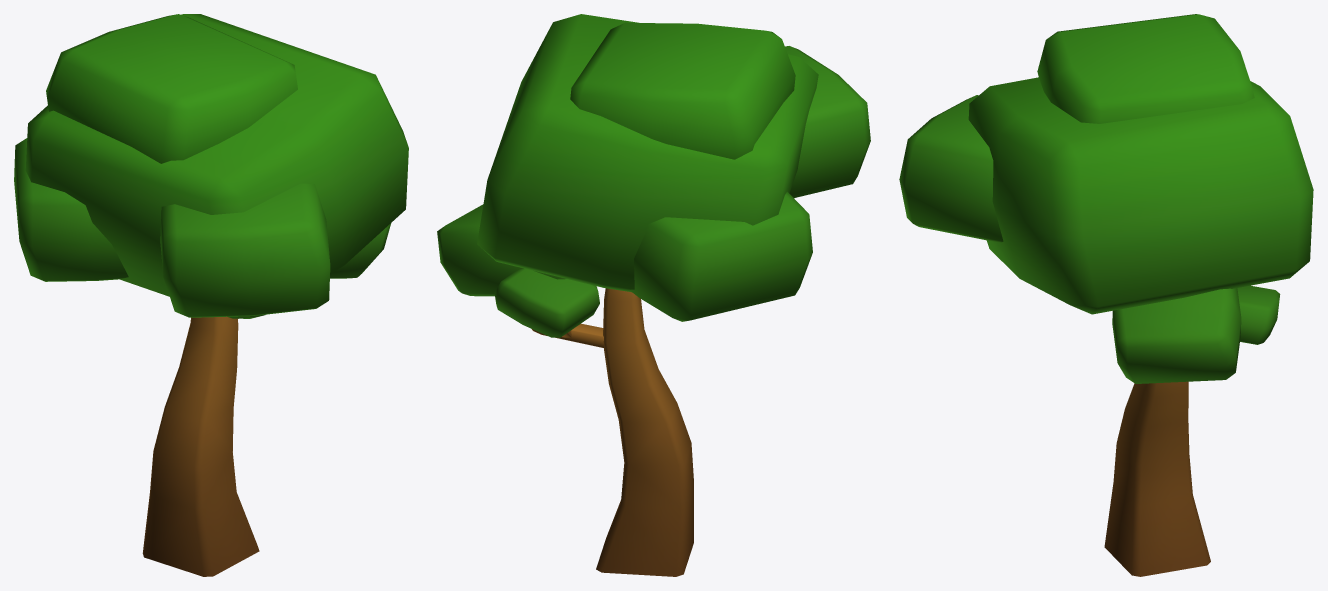
File: Tree_C_6_.glb
3 renders of one model, left to right at view 1: azimuth 30°, elevation 25°; view 2: azimuth 150°, elevation 25°; view 3: azimuth 270°, elevation 25°, orthographic. The views are drawn at different scales.
Parts seen in each view (by area): view 1: Tree_C_6; view 2: Tree_C_6; view 3: Tree_C_6.
Part boxes in pixels (x1=…): Tree_C_6: x1=14, y1=14, x2=408, y2=576; Tree_C_6: x1=437, y1=14, x2=870, y2=576; Tree_C_6: x1=899, y1=14, x2=1313, y2=576.
Size of the model in its own units: 2.86 by 3.99 by 3.05.
1 material, 1 textured.
